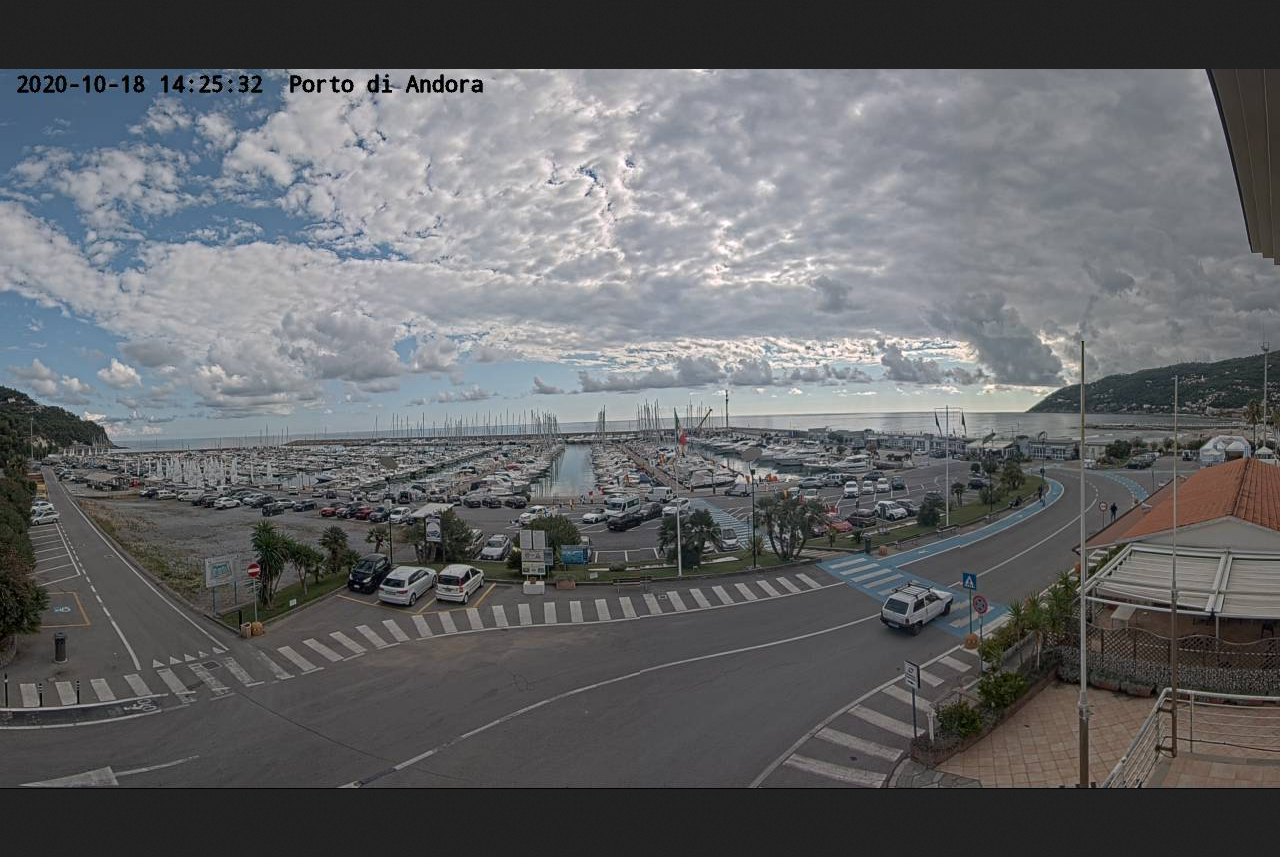no: (670, 404, 687, 450)
